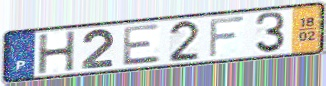2: (80, 27, 118, 72), (167, 18, 202, 65)
3: (252, 11, 287, 55)
E: (121, 22, 163, 68)
F: (207, 14, 247, 60)
H: (36, 29, 78, 76)
